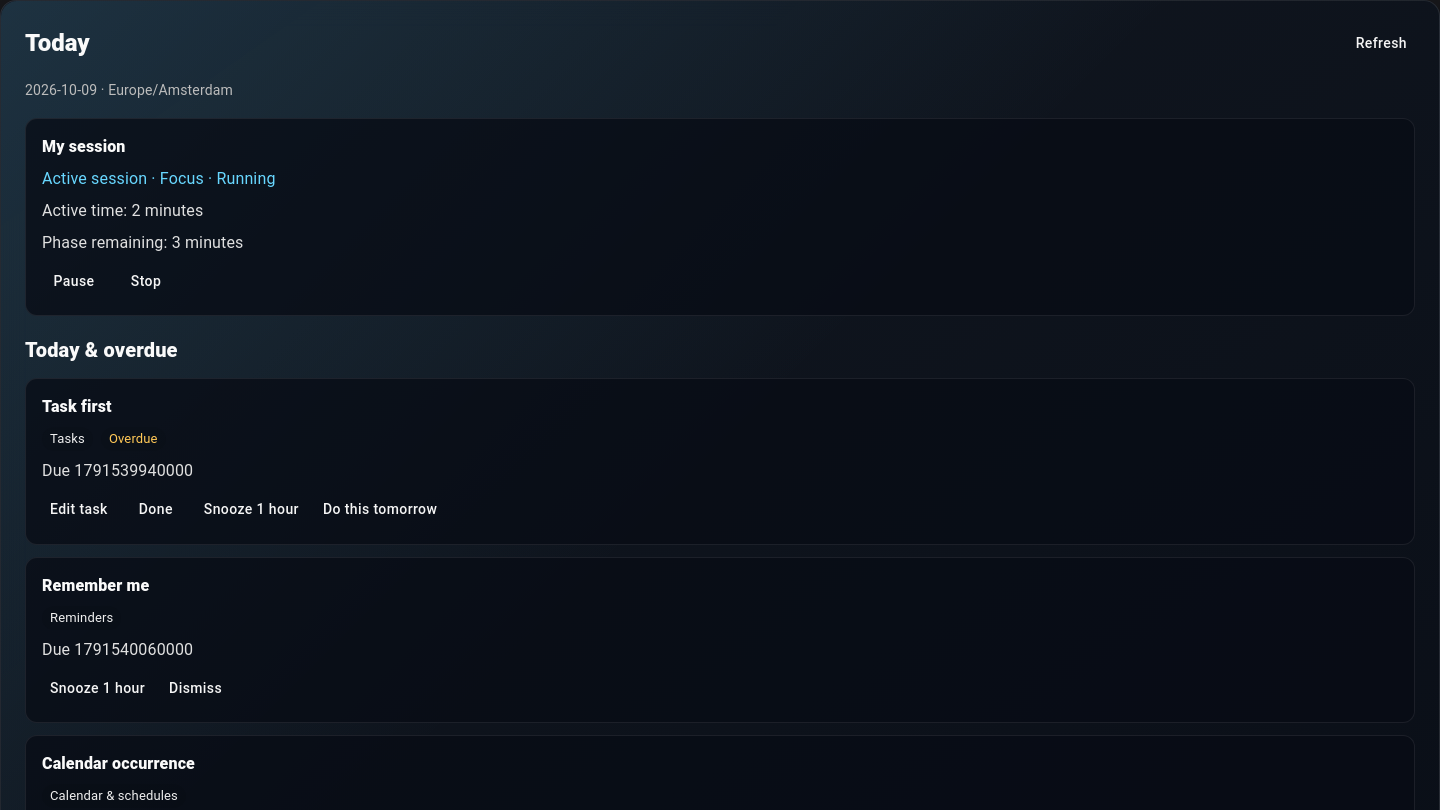
it: Today dashboard › shows mutation errors without pretending that completion succeeded
Click the button "Done": (156, 509) 124,491 -> 188,528
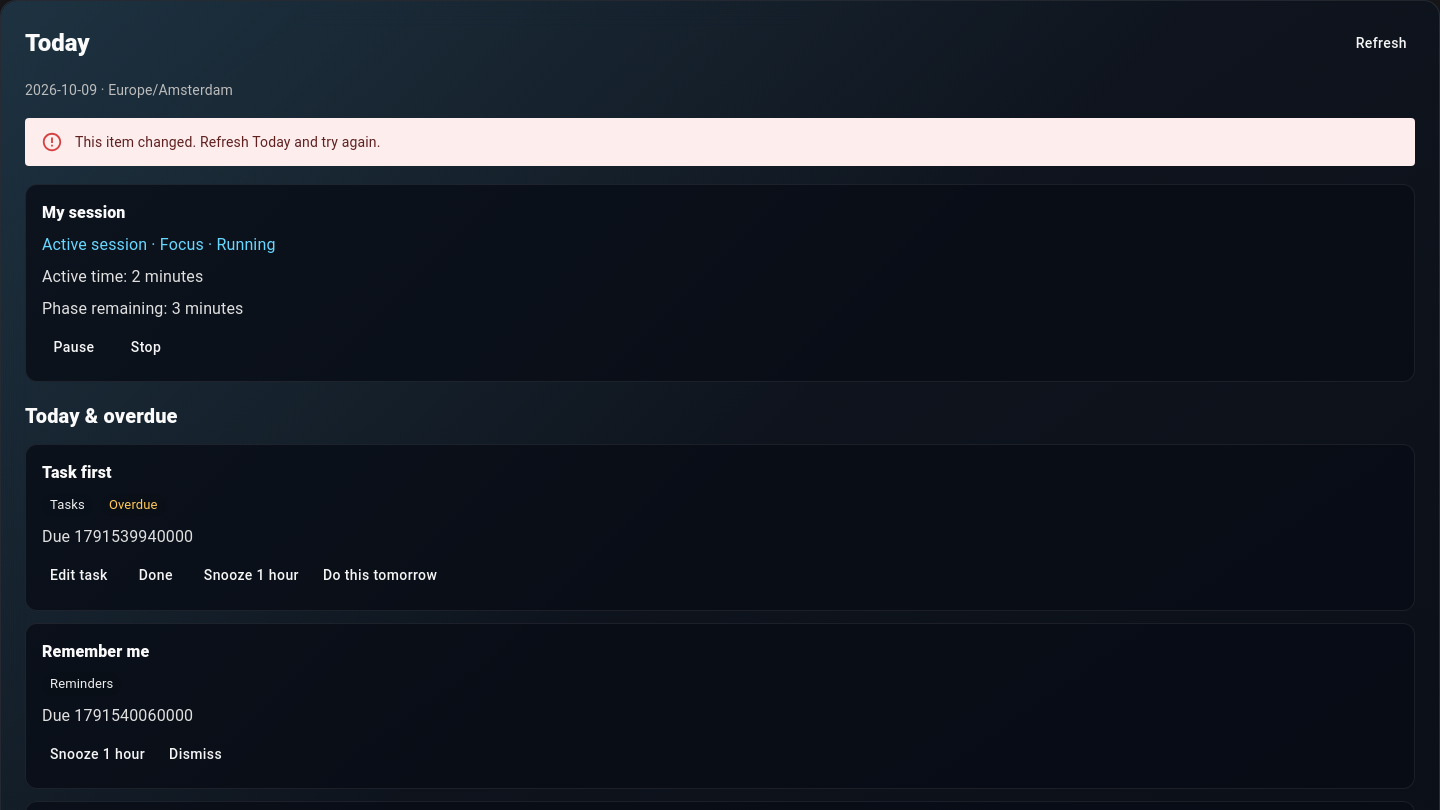
Expected: the text "Task first" is shown, 42,463 -> 112,482
Now the text "This item changed." is shown, box 75,134 -> 380,150
